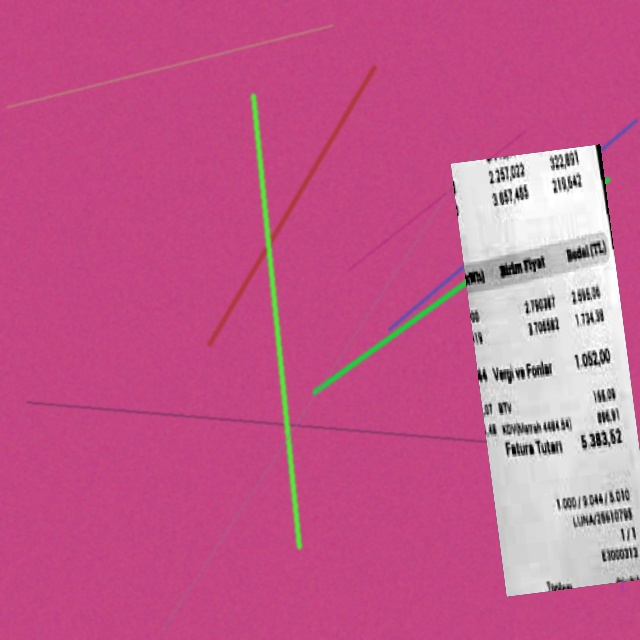electricity-bill: (450, 144, 639, 596)
